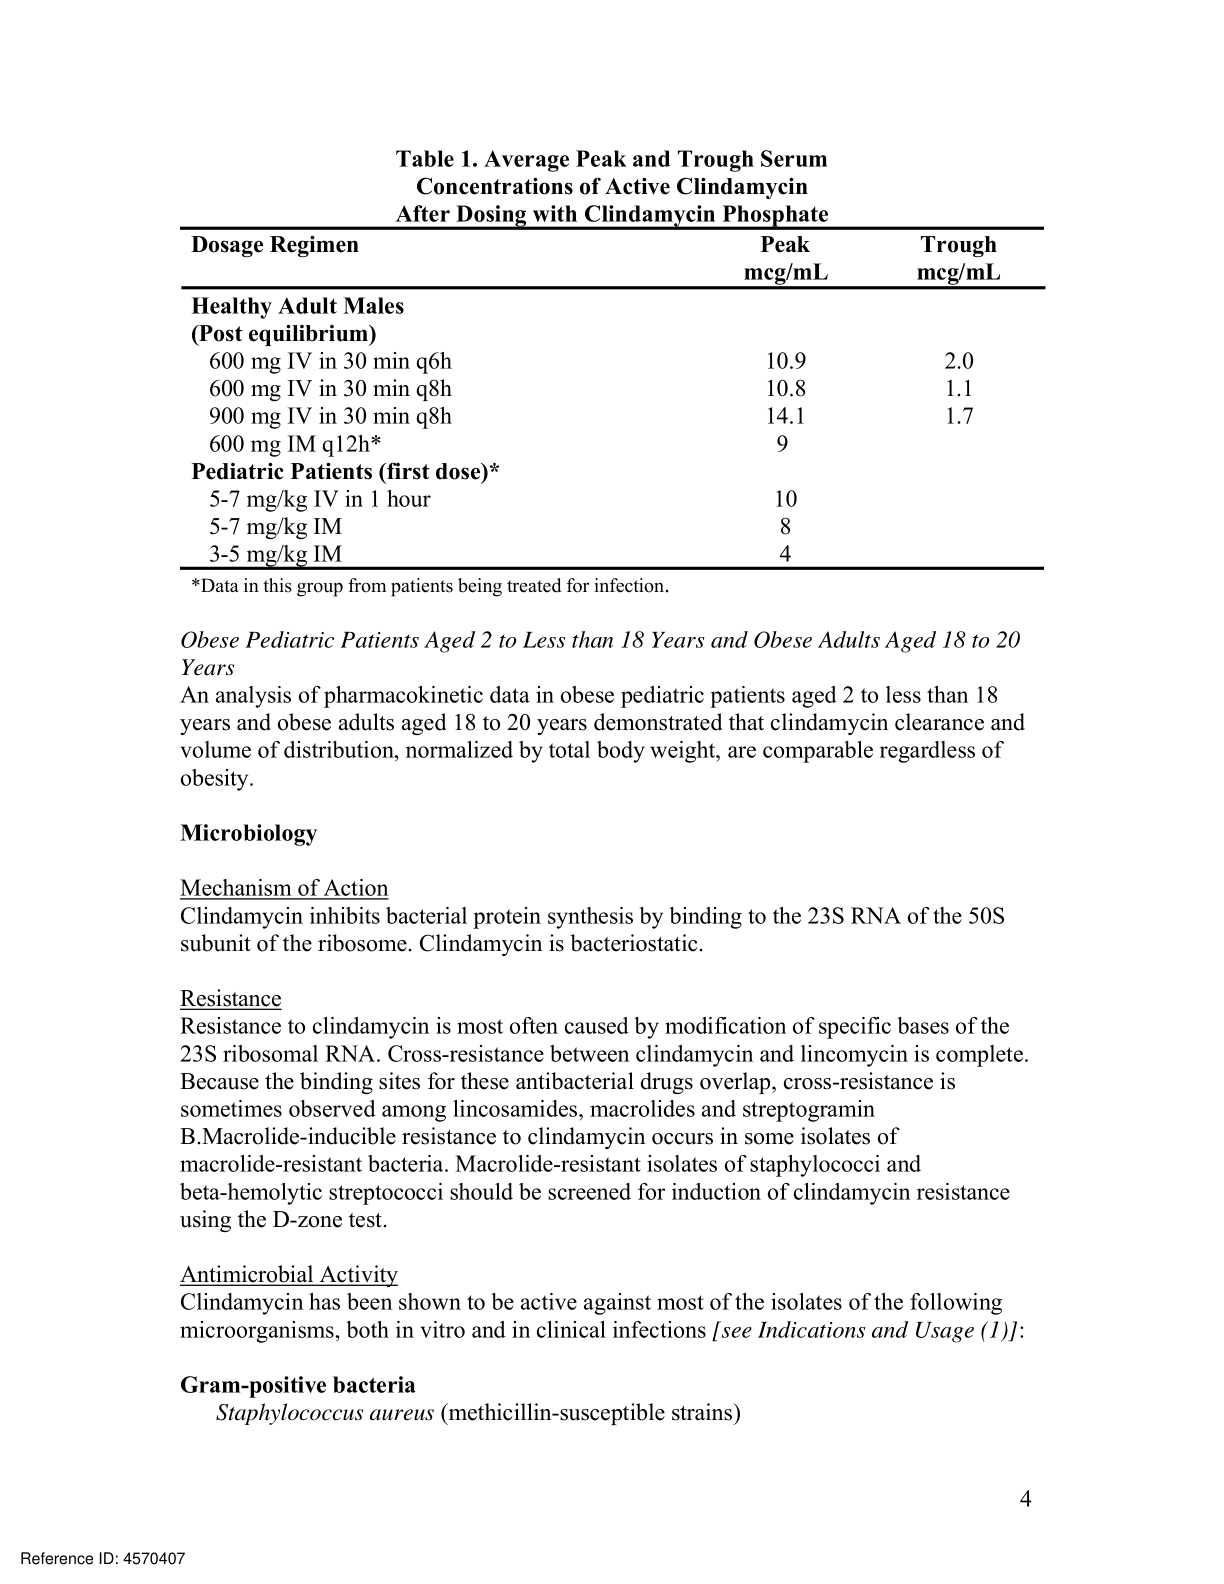partial_lined: (177, 225, 1045, 571)
